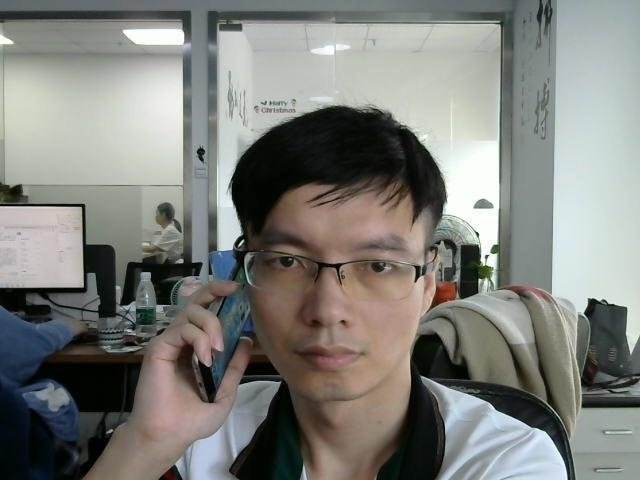hand: (142, 278, 246, 423)
